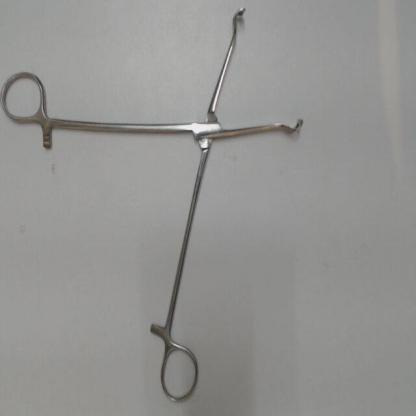8 Babcock Tissue Forceps: (0, 2, 314, 407)
